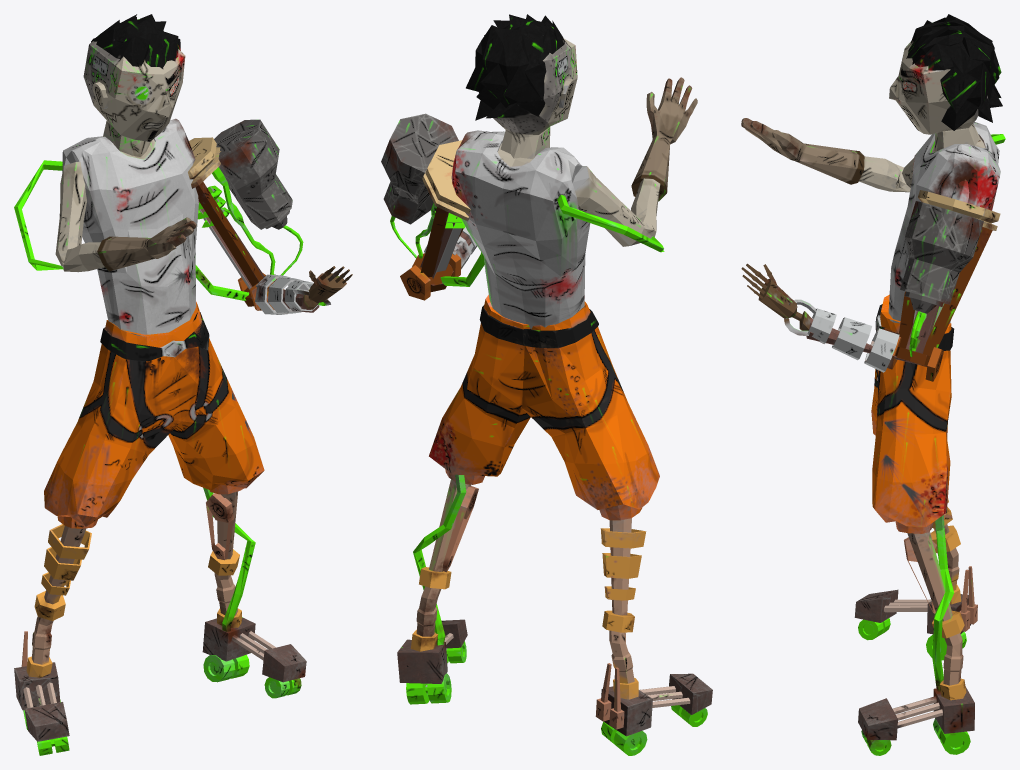
The model's file is CyborgFINALAnimation_000025.obj.
3 renders of one model, left to right at view 1: azimuth 30°, elevation 25°; view 2: azimuth 150°, elevation 25°; view 3: azimuth 270°, elevation 25°, orthographic. The views are drawn at different scales.
Parts seen in each view (by area): view 1: CyborgMesh_Cube.002; view 2: CyborgMesh_Cube.002; view 3: CyborgMesh_Cube.002.
Part boxes in pixels (box(x1,y1,x2,y2)): CyborgMesh_Cube.002: box(14, 14, 352, 755); CyborgMesh_Cube.002: box(381, 14, 712, 755); CyborgMesh_Cube.002: box(741, 14, 1005, 755).
Size of the model in its own units: 4.26 by 9.62 by 3.38.
